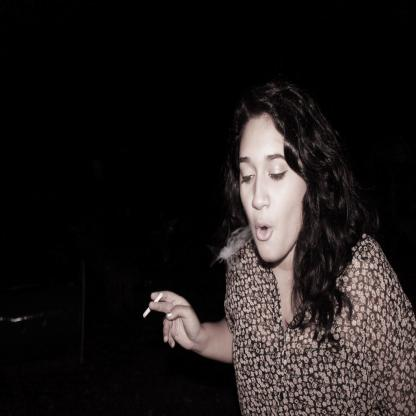smoking: (143, 292, 163, 318)
